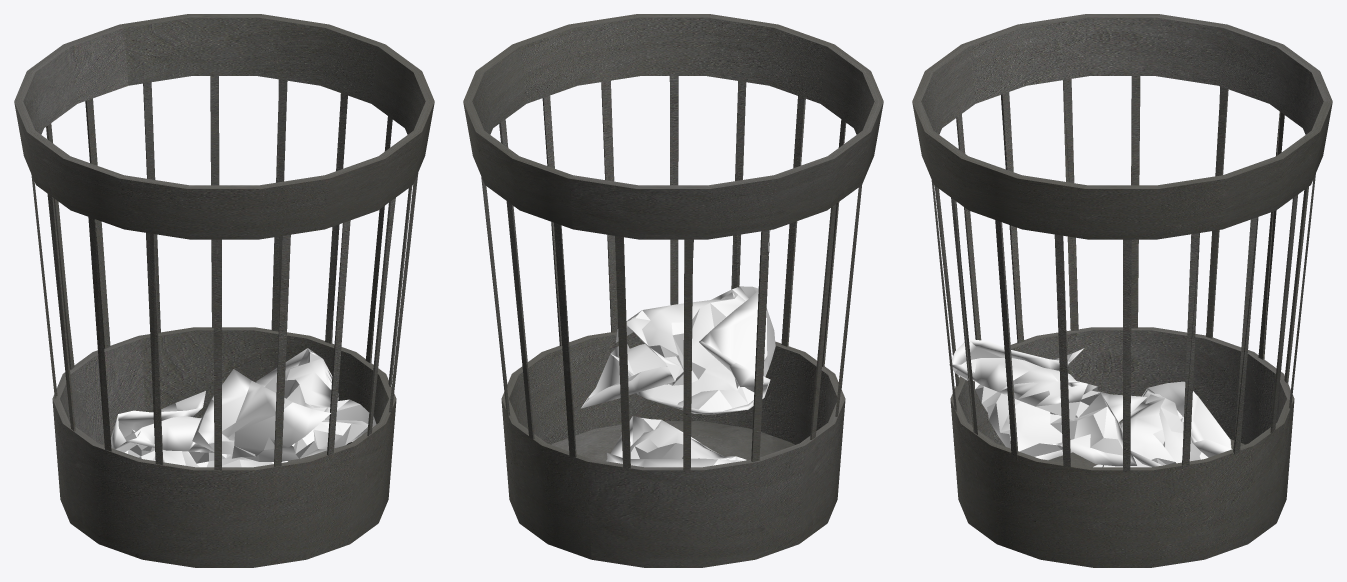
The model's file is Bin.FBX.
3 renders of one model, left to right at view 1: azimuth 30°, elevation 25°; view 2: azimuth 150°, elevation 25°; view 3: azimuth 270°, elevation 25°, orthographic.
Visible parts, largest first — view 1: Bin, Paper 3, Paper 1; view 2: Bin, Paper 3, Paper 1; view 3: Bin, Paper 3, Paper 1.
Part boxes in pixels (<box>): Bin: <box>14,14,434,567</box>; Paper 3: <box>192,348,376,461</box>; Paper 1: <box>111,391,287,467</box>; Bin: <box>463,14,883,567</box>; Paper 3: <box>581,286,775,414</box>; Paper 1: <box>606,416,746,467</box>; Bin: <box>912,14,1332,567</box>; Paper 3: <box>949,339,1146,466</box>; Paper 1: <box>1093,381,1232,467</box>.
Size of the model in its own units: 38.91 by 41.26 by 39.51.
2 materials, 1 textured.
